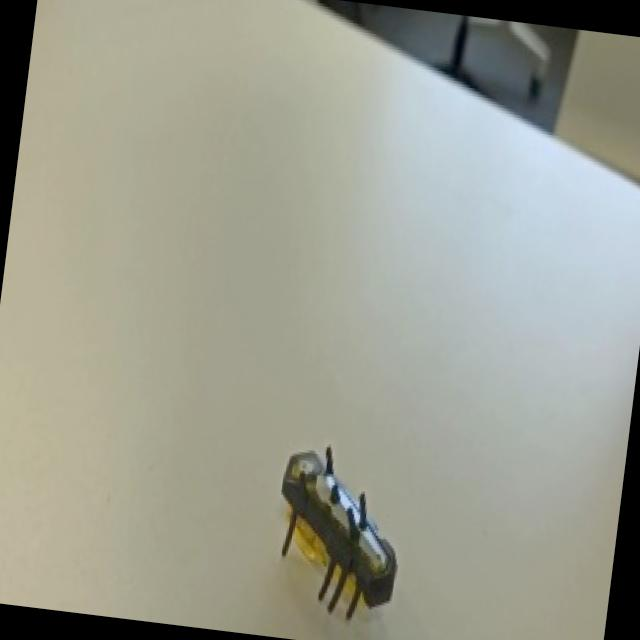6_NanoBug_GrisOscuro: (261, 429, 445, 640)
